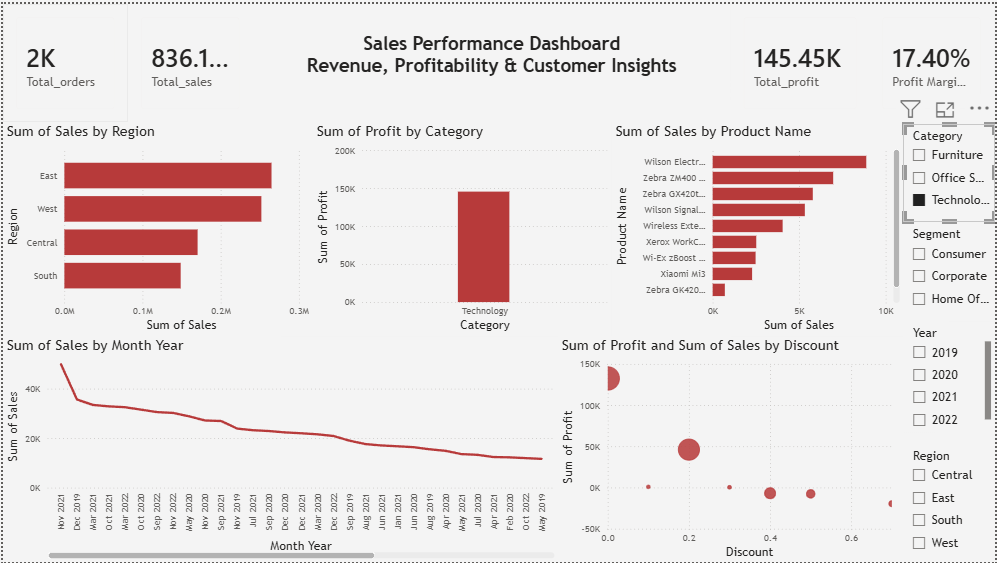

This screenshot's page, from the dashboard's own definition file:
{"tool":"powerbi","page":{"name":"Page 1","canvas":[1280,720],"ordinal":0},"visuals":[{"type":"cardVisual","fields":{"Data":["Orders.Total_sales"]},"box":[161.7,0,161.7,153.3],"z":0},{"type":"cardVisual","fields":{"Data":["Orders.Total_orders"]},"box":[0,0,161.7,153.3],"z":1},{"type":"cardVisual","fields":{"Data":["Orders.Total_profit"]},"box":[938.3,0,180,153.3],"z":2},{"type":"cardVisual","fields":{"Data":["Orders.Profit Margin %"]},"box":[1118.3,0,161.7,153.3],"z":3},{"type":"textbox","box":[322.6,0,616.1,153.2],"z":4},{"type":"clusteredBarChart","fields":{"Category":["Orders.Region"],"Y":["Sum(Orders.Sales)"]},"box":[0,153.3,400,275],"z":5},{"type":"clusteredColumnChart","fields":{"Category":["Orders.Category"],"Y":["Sum(Orders.Profit)"]},"box":[400,153.3,385,275],"z":6},{"type":"lineChart","fields":{"Category":["Orders.Month Year"],"Y":["Sum(Orders.Sales)"]},"box":[0,428.3,716.7,291.7],"z":7},{"type":"barChart","fields":{"Category":["Orders.Product Name"],"Y":["Sum(Orders.Sales)"]},"box":[785,153.3,376.7,275],"z":8},{"type":"scatterChart","fields":{"Size":["Sum(Orders.Sales)"],"Y":["Sum(Orders.Profit)"],"X":["Orders.Discount"]},"box":[716.7,428.3,445,291.7],"z":9},{"type":"slicer","fields":{"Values":["Orders.Region"]},"box":[1161.7,568.3,118.3,151.7],"z":10},{"type":"slicer","fields":{"Values":["Orders.Category"]},"box":[1161.7,155,118.3,126.7],"z":12},{"type":"slicer","fields":{"Values":["Orders.Segment"]},"box":[1161.7,281.7,118.3,128.3],"z":13},{"type":"slicer","fields":{"Values":["Orders.Year"]},"box":[1161.7,410,118.3,143.3],"z":14}]}

Visuals, with their boxes in screenshot pixels (x1, y1, x2, y2), scaled from the page's 1280x720 canvas onto the 997x563 screenshot:
cardVisual - Orders.Total_sales: x1=126, y1=0, x2=252, y2=120
cardVisual - Orders.Total_orders: x1=0, y1=0, x2=126, y2=120
cardVisual - Orders.Total_profit: x1=731, y1=0, x2=871, y2=120
cardVisual - Orders.Profit Margin %: x1=871, y1=0, x2=996, y2=120
textbox: x1=251, y1=0, x2=731, y2=120
clusteredBarChart - Orders.Region x Sum(Orders.Sales): x1=0, y1=120, x2=312, y2=335
clusteredColumnChart - Orders.Category x Sum(Orders.Profit): x1=312, y1=120, x2=611, y2=335
lineChart - Orders.Month Year x Sum(Orders.Sales): x1=0, y1=335, x2=558, y2=562
barChart - Orders.Product Name x Sum(Orders.Sales): x1=611, y1=120, x2=905, y2=335
scatterChart - Sum(Orders.Sales) x Sum(Orders.Profit): x1=558, y1=335, x2=905, y2=562
slicer - Orders.Region: x1=905, y1=444, x2=996, y2=562
slicer - Orders.Category: x1=905, y1=121, x2=996, y2=220
slicer - Orders.Segment: x1=905, y1=220, x2=996, y2=321
slicer - Orders.Year: x1=905, y1=321, x2=996, y2=433
